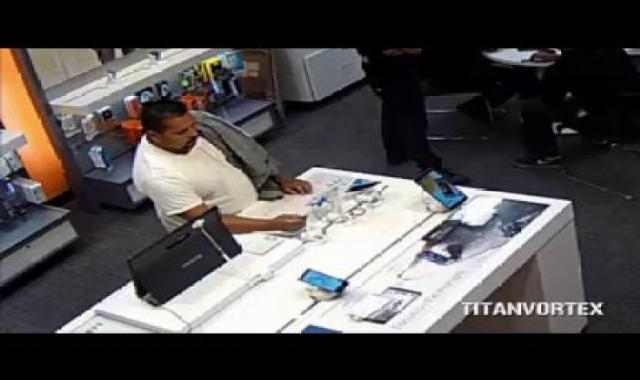no_hairnet: (130, 98, 199, 153)
